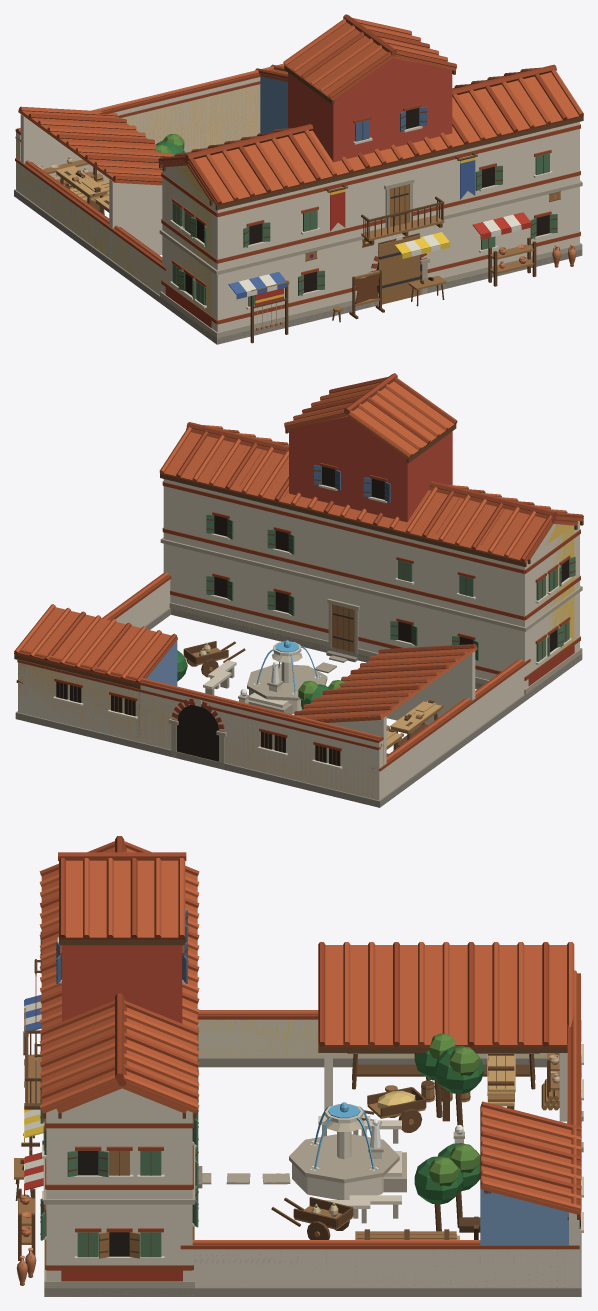
Rendered from Zunfthaus.fbx.
3 views of the same model, one above another, from view 1: azimuth 30°, elevation 25°; view 2: azimuth 150°, elevation 25°; view 3: azimuth 270°, elevation 25° (orthographic). The views are drawn at different scales.
Visible parts, largest first — view 1: Zunfthaus_0, Zunfthaus_1; view 2: Zunfthaus_0, Zunfthaus_1; view 3: Zunfthaus_0, Zunfthaus_1.
Part boxes in pixels (<box>): Zunfthaus_0: <box>14,63,583,344</box>; Zunfthaus_1: <box>14,14,576,343</box>; Zunfthaus_0: <box>15,422,583,807</box>; Zunfthaus_1: <box>14,373,577,806</box>; Zunfthaus_0: <box>24,836,583,1296</box>; Zunfthaus_1: <box>14,845,583,1296</box>.
Size of the model in its own units: 5.41 by 3.49 by 5.45.
